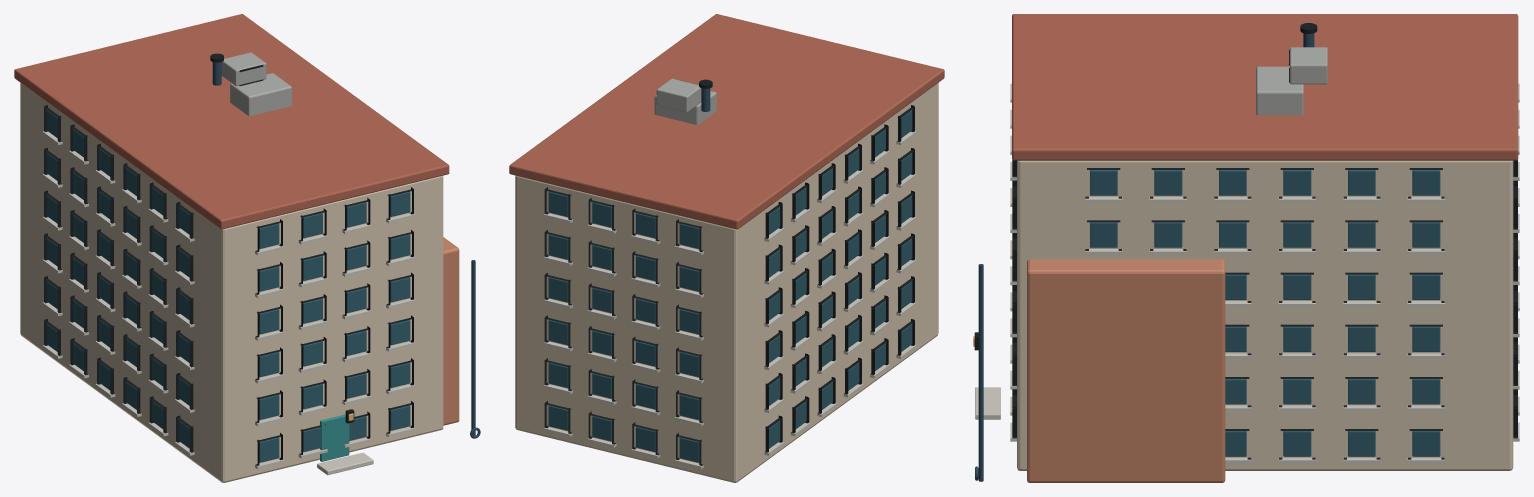
Rendered from RES_MID_2x3_005.glb.
3 renders of one model, left to right at view 1: azimuth 30°, elevation 25°; view 2: azimuth 150°, elevation 25°; view 3: azimuth 270°, elevation 25°, orthographic. The views are drawn at different scales.
Visible parts, largest first — view 1: RES_MID_2x3_005_Visual; view 2: RES_MID_2x3_005_Visual; view 3: RES_MID_2x3_005_Visual.
Part boxes in pixels (left/top/right/bottom): RES_MID_2x3_005_Visual: left=14, top=14, right=480, bottom=482; RES_MID_2x3_005_Visual: left=509, top=14, right=944, bottom=482; RES_MID_2x3_005_Visual: left=973, top=14, right=1519, bottom=482.
Size of what is drawn, in the model's own units: 3.5 by 4.24 by 5.51.
